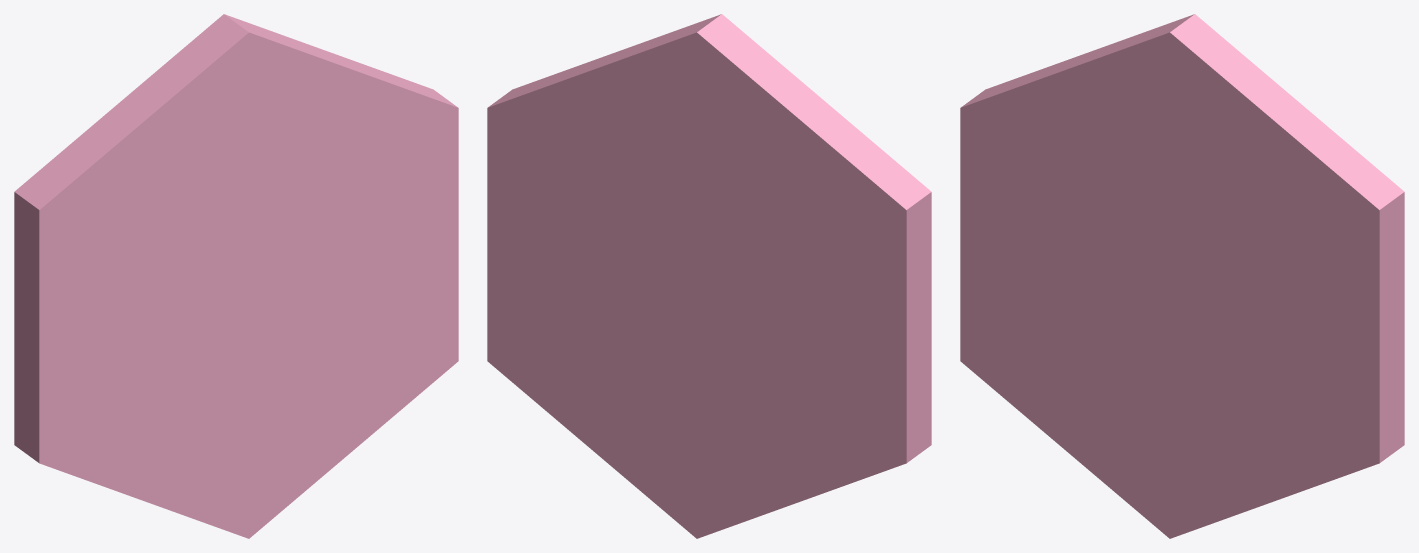
The model's file is badge_bo_peep.glb.
3 views of the same model, side by side, from view 1: azimuth 30°, elevation 25°; view 2: azimuth 150°, elevation 25°; view 3: azimuth 330°, elevation 25° (orthographic).
Parts seen in each view (by area): view 1: badge; view 2: badge; view 3: badge.
Part boxes in pixels (x1=…): badge: x1=14, y1=14, x2=458, y2=538; badge: x1=487, y1=14, x2=931, y2=538; badge: x1=960, y1=14, x2=1404, y2=538.
Bounding box in the file's own units: 1.73 × 2 × 0.18.
